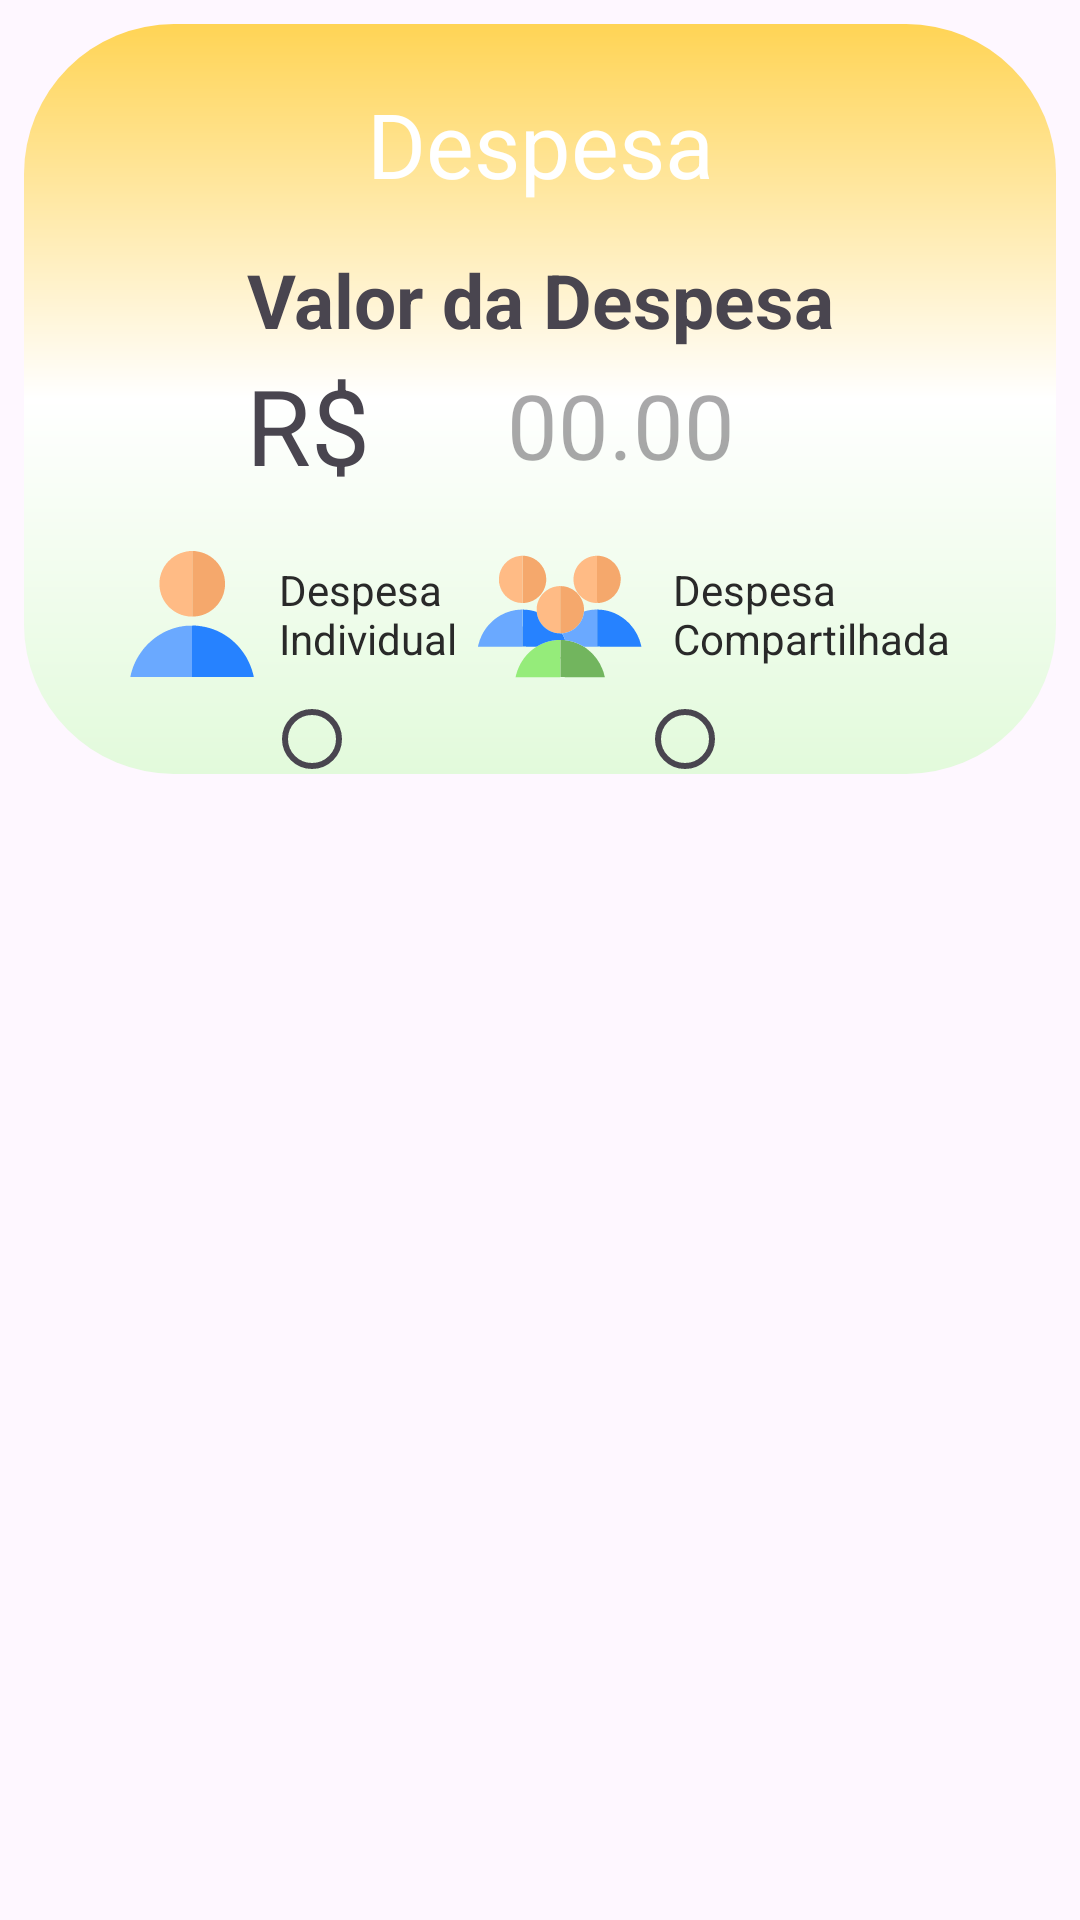

Icon click points for this 1080px×1920px phone screenshot, format (x=x, y=y):
user grupo: (x=560, y=616)
user individual: (x=192, y=614)
